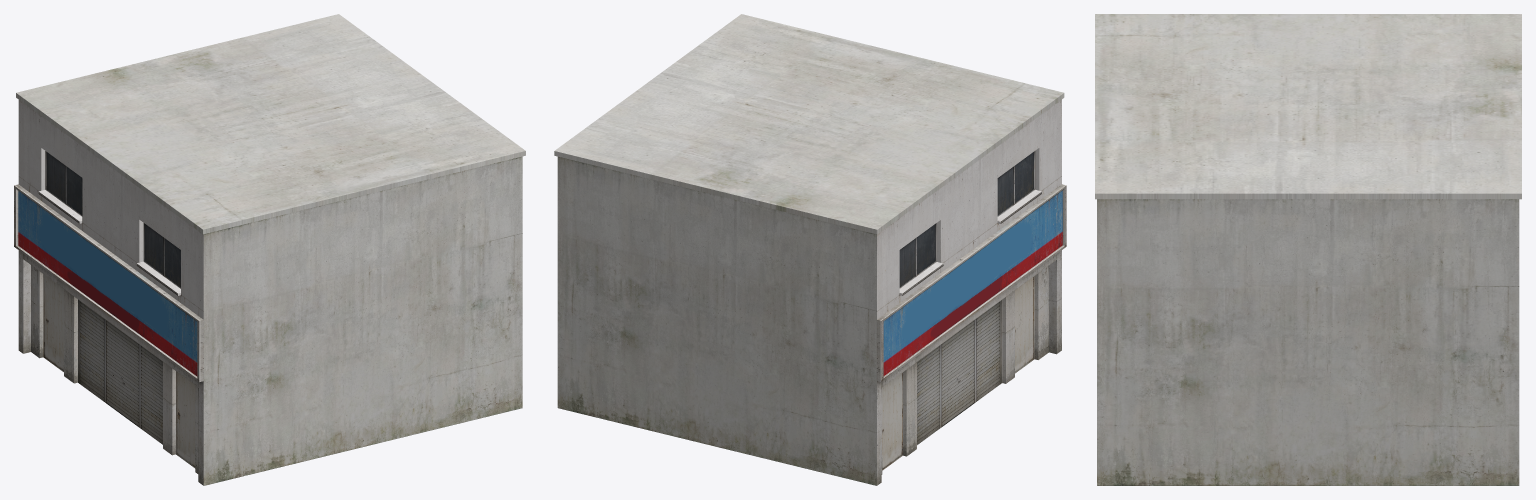
File: White_Building.fbx
3 views of the same model, side by side, from view 1: azimuth 30°, elevation 25°; view 2: azimuth 150°, elevation 25°; view 3: azimuth 270°, elevation 25° (orthographic). The views are drawn at different scales.
Visible parts, largest first — view 1: White_Building.001; view 2: White_Building.001; view 3: White_Building.001.
Part boxes in pixels (x1=…): White_Building.001: x1=14, y1=14, x2=525, y2=485; White_Building.001: x1=554, y1=14, x2=1066, y2=485; White_Building.001: x1=1095, y1=14, x2=1521, y2=485.
Size of the model in its own units: 336 by 253 by 334.
2 materials, 2 textured.
